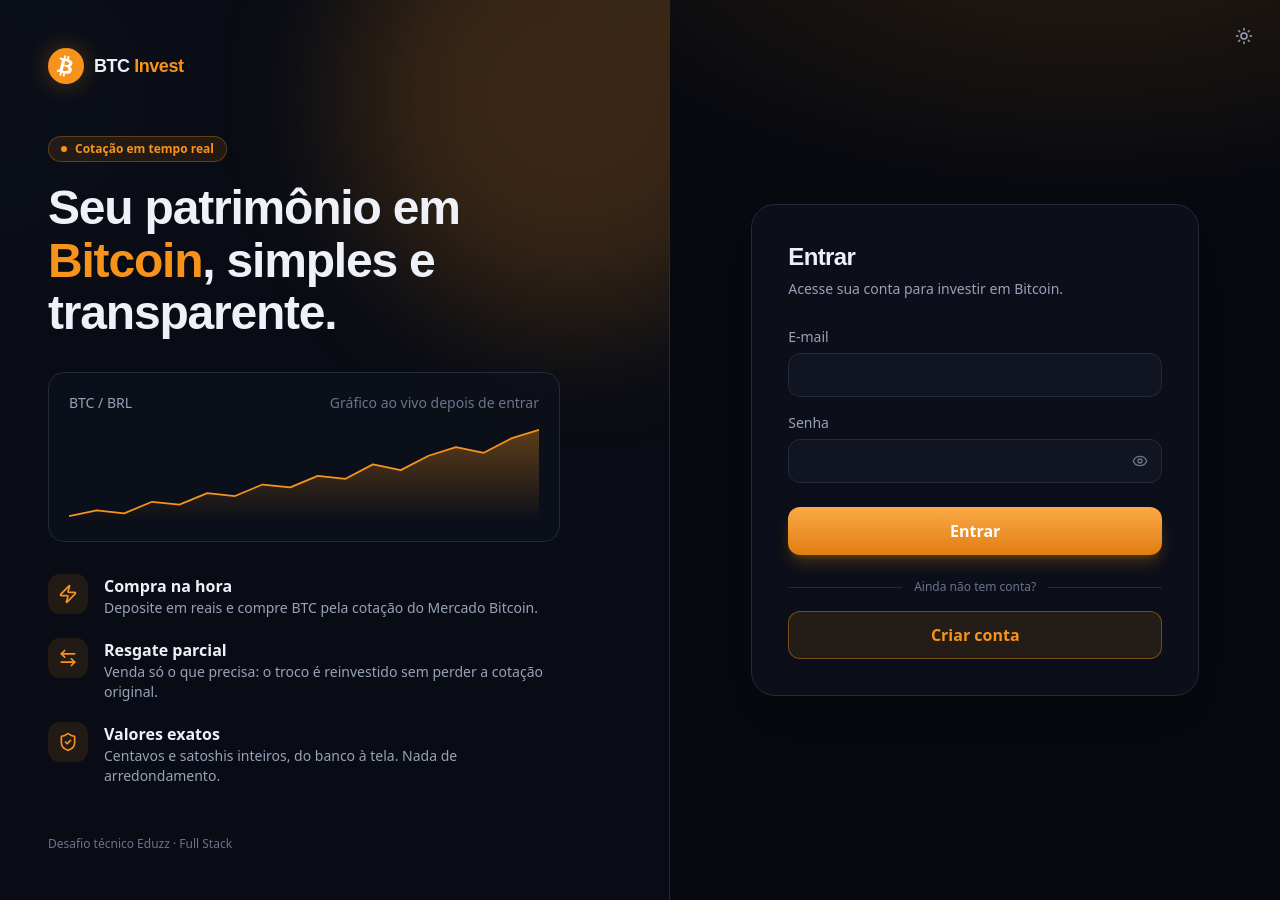
Test: LoginPage › validates the fields before calling the API
Step 1. Type "nao-e-email" into the field labelled "E-mail" → (975, 375), box x1=788 y1=353 x2=1162 y2=397
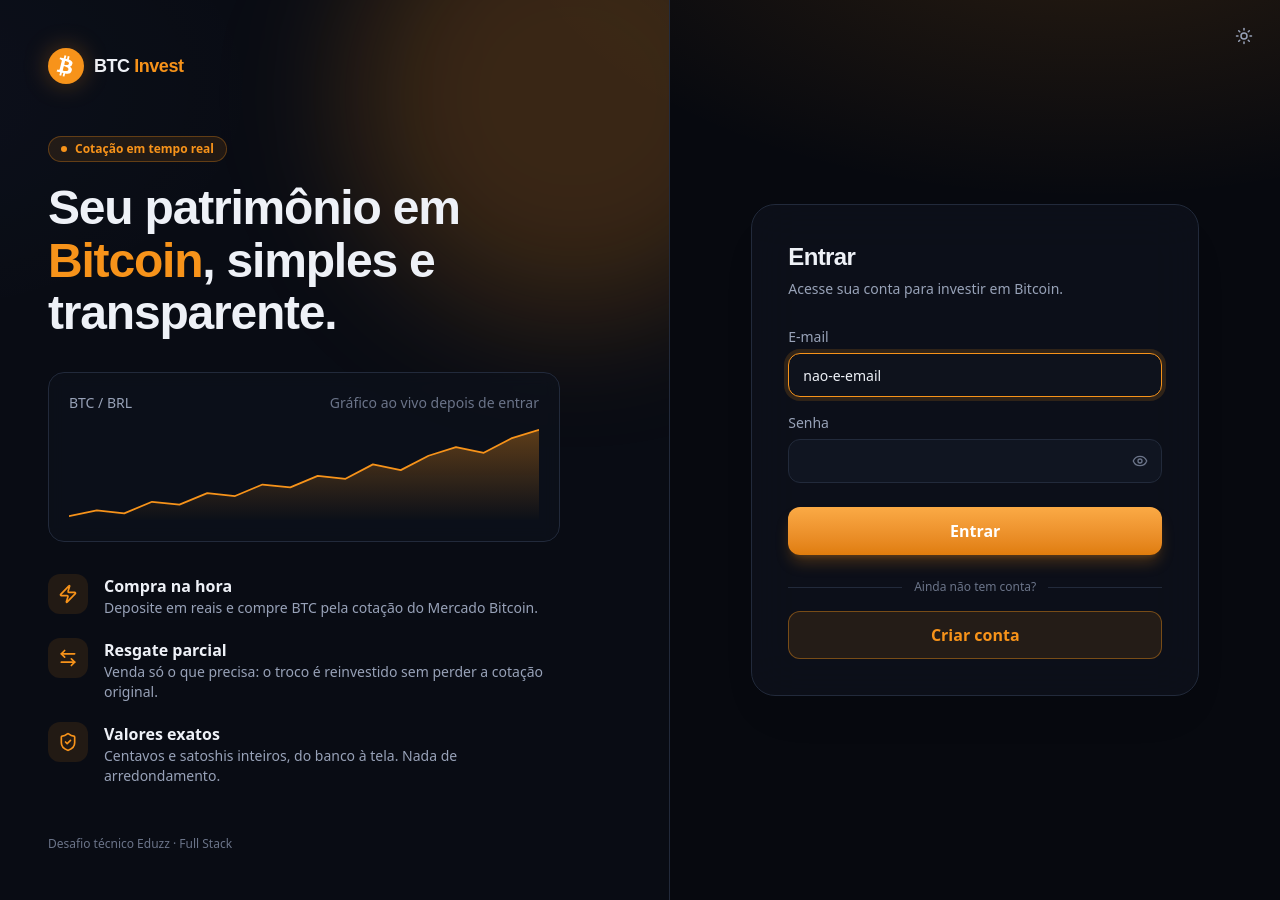
Step 2. Click the button "Entrar" → (975, 531), box x1=788 y1=507 x2=1162 y2=555
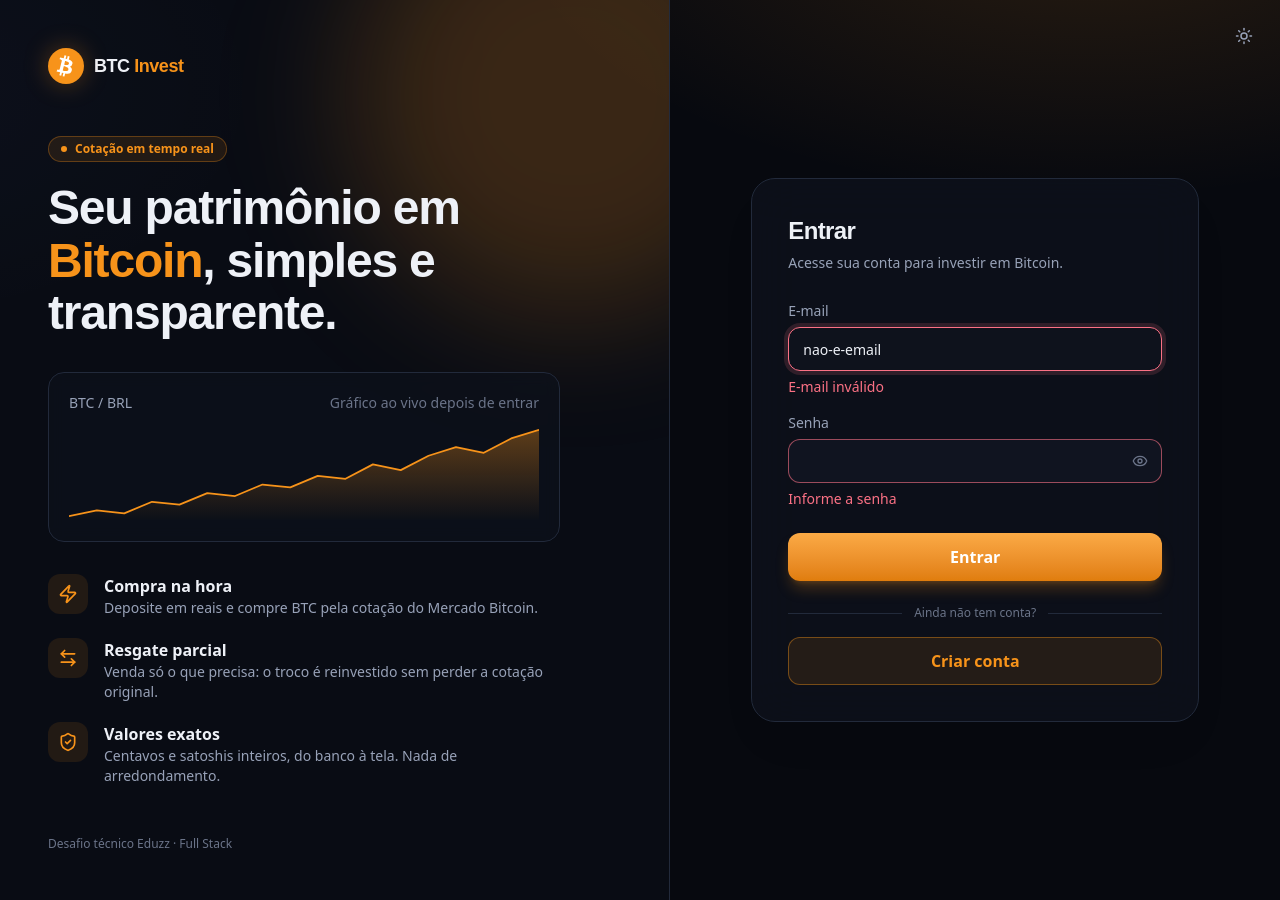
Now the text "E-mail inválido" is shown, box x1=788 y1=377 x2=884 y2=396
Now the text "Informe a senha" is shown, box x1=788 y1=489 x2=897 y2=508
